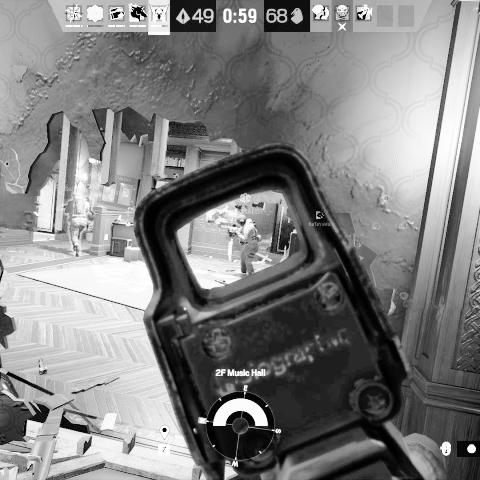Character: (217, 213, 261, 276), (62, 190, 91, 258)
Friend_label: (218, 192, 273, 216), (63, 172, 94, 192), (75, 182, 102, 199), (309, 209, 331, 227)
Head: (236, 213, 248, 225), (72, 192, 83, 200)
